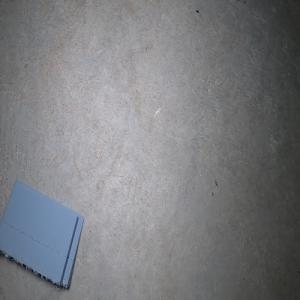PlasticPart: (0, 179, 84, 290)
